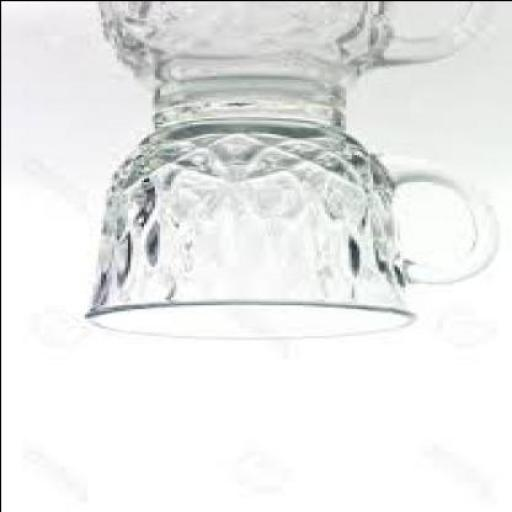glass: (81, 102, 493, 339)
